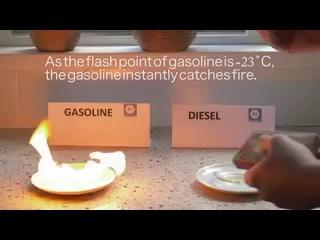Fire: (36, 141, 118, 192)
